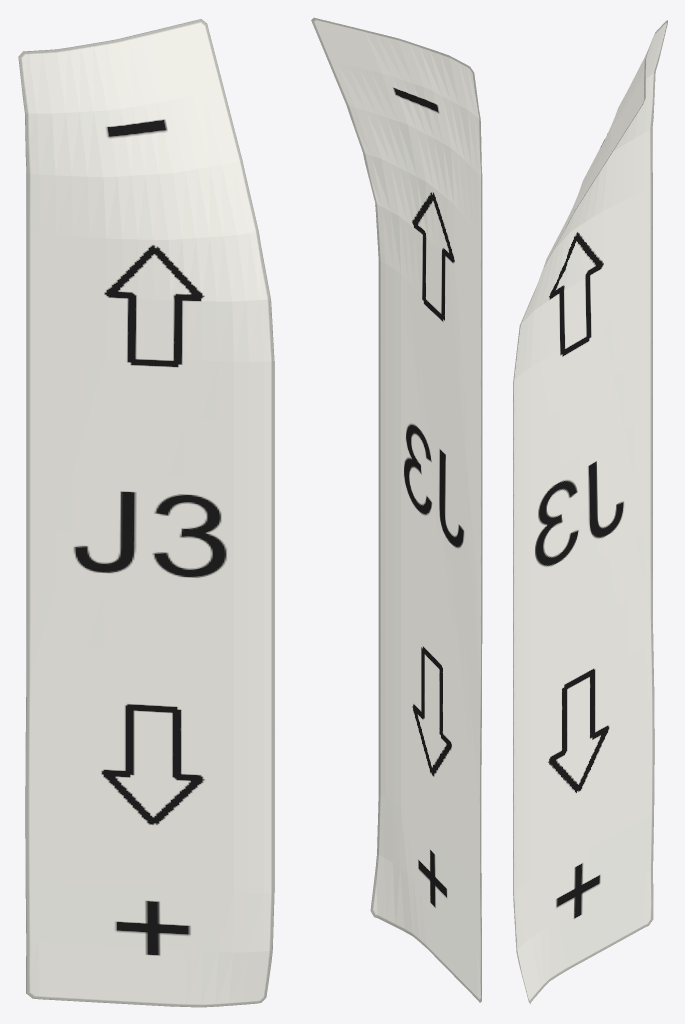
File: J3_sticker.glb
3 renders of one model, left to right at view 1: azimuth 30°, elevation 25°; view 2: azimuth 150°, elevation 25°; view 3: azimuth 270°, elevation 25°, orthographic. The views are drawn at different scales.
Bounding box in the file's own units: 0.012 × 0.06 × 0.00948.
1 material, 1 textured.
